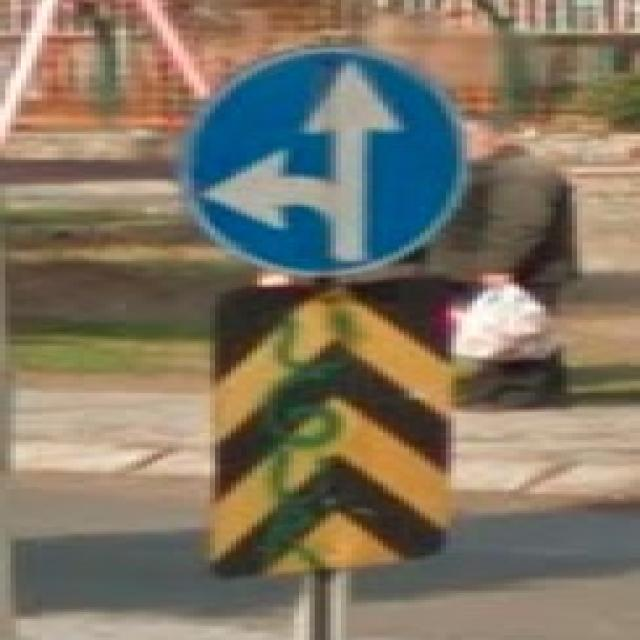Straight or Left: (184, 49, 468, 275)
